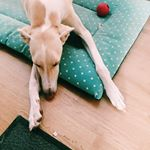puppy: (14, 1, 130, 136)
